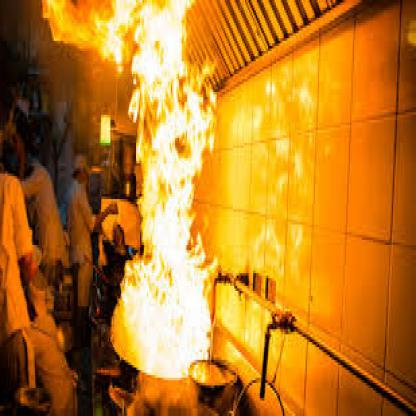Fire: (112, 0, 220, 362)
